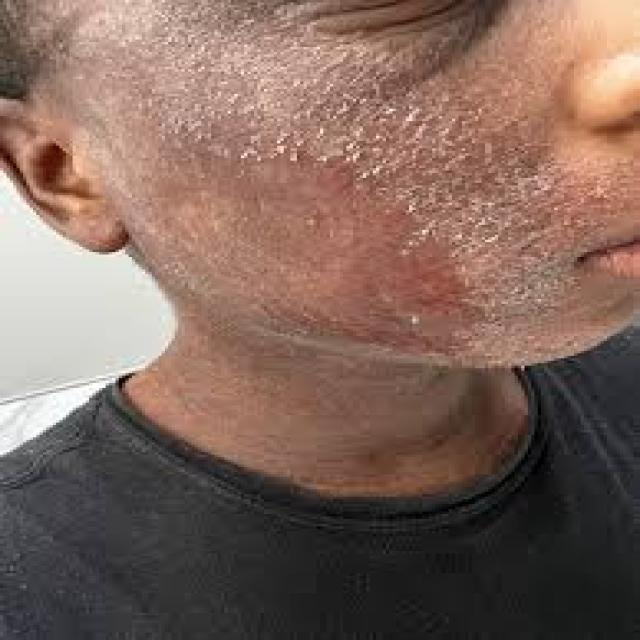flakiness: (157, 73, 572, 317)
